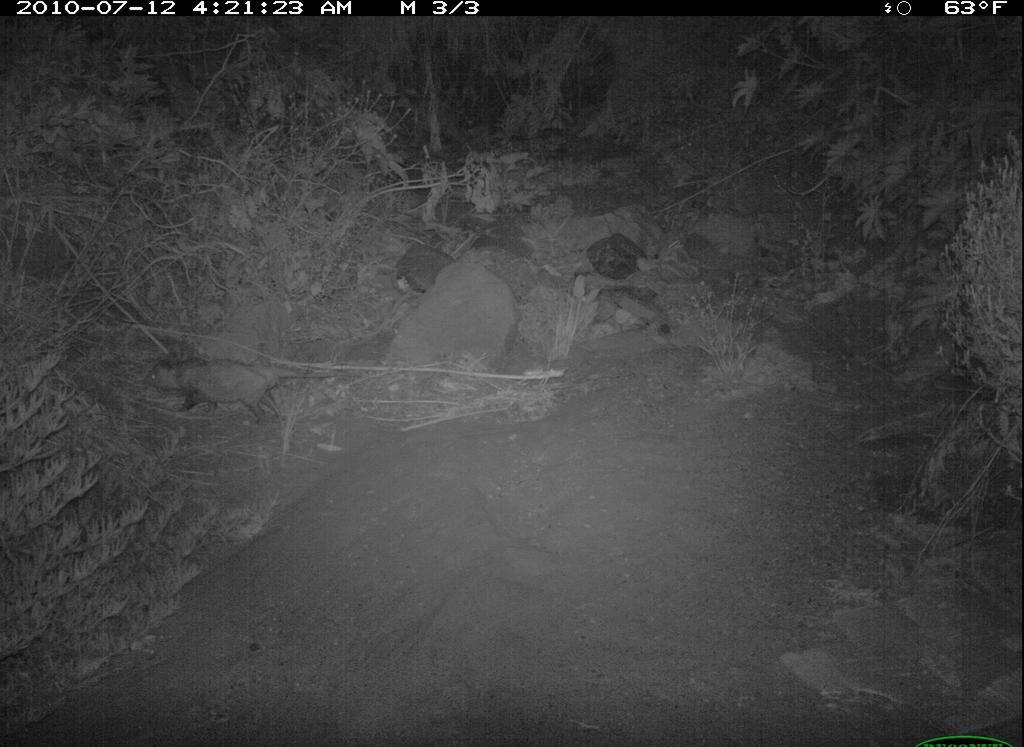opossum: (144, 356, 361, 427)
